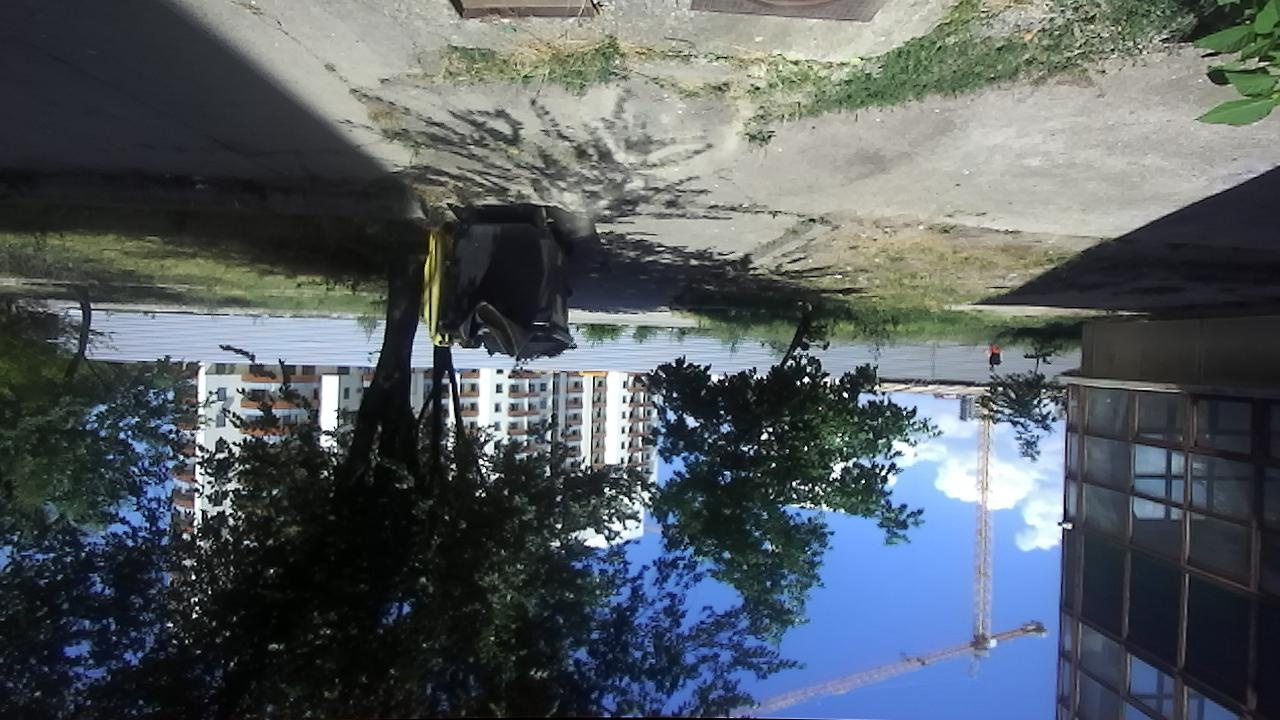drain: (444, 0, 603, 22)
